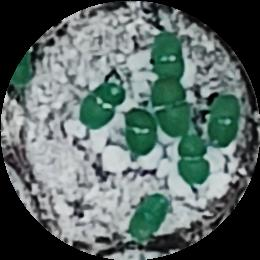Basil: (77, 80, 122, 131), (155, 77, 190, 140), (152, 30, 192, 78), (123, 105, 157, 156), (131, 194, 168, 239), (210, 93, 239, 148), (179, 136, 209, 184)
